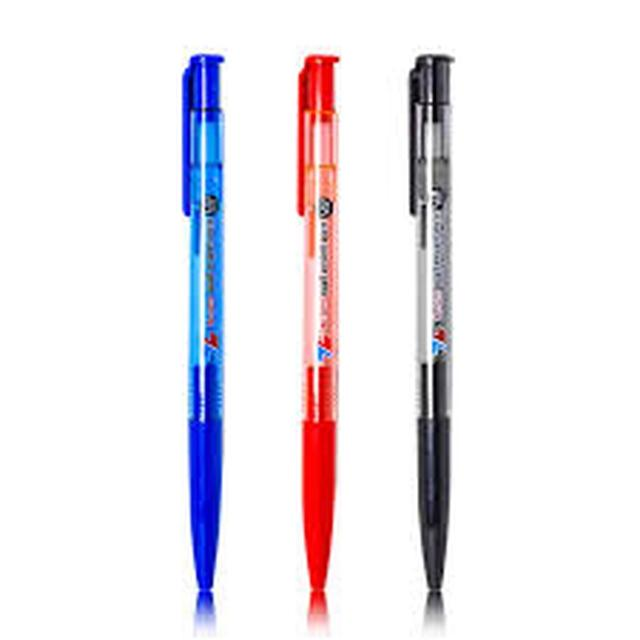pen: (399, 34, 521, 636), (285, 24, 365, 616), (166, 34, 246, 624)
